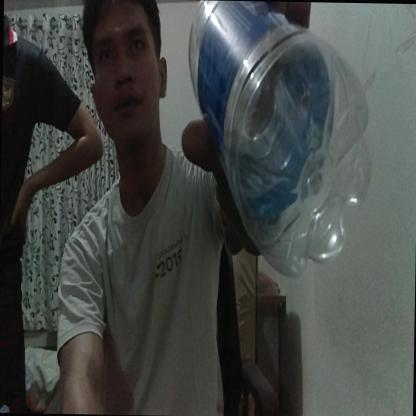plastic_bottles: (183, 0, 371, 281)
